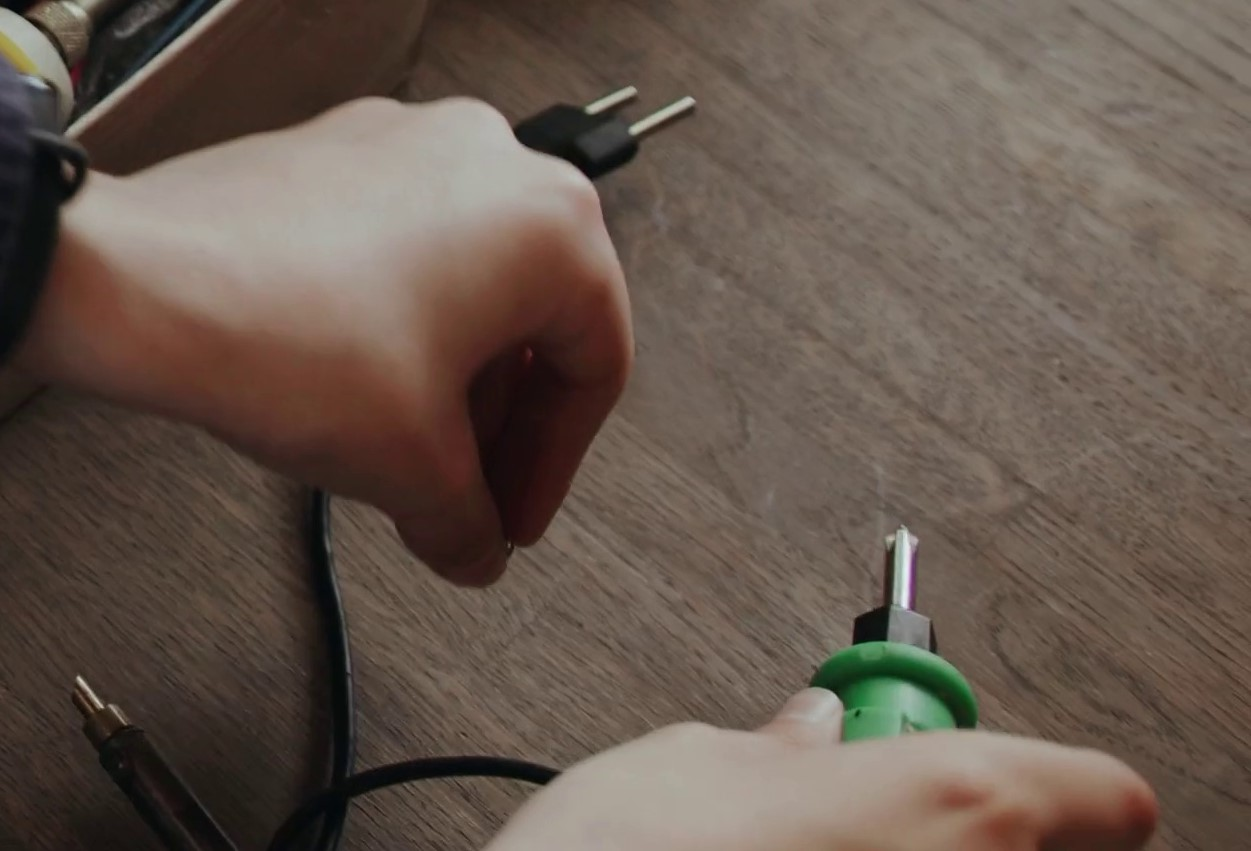screwdriver: (805, 518, 982, 851)
